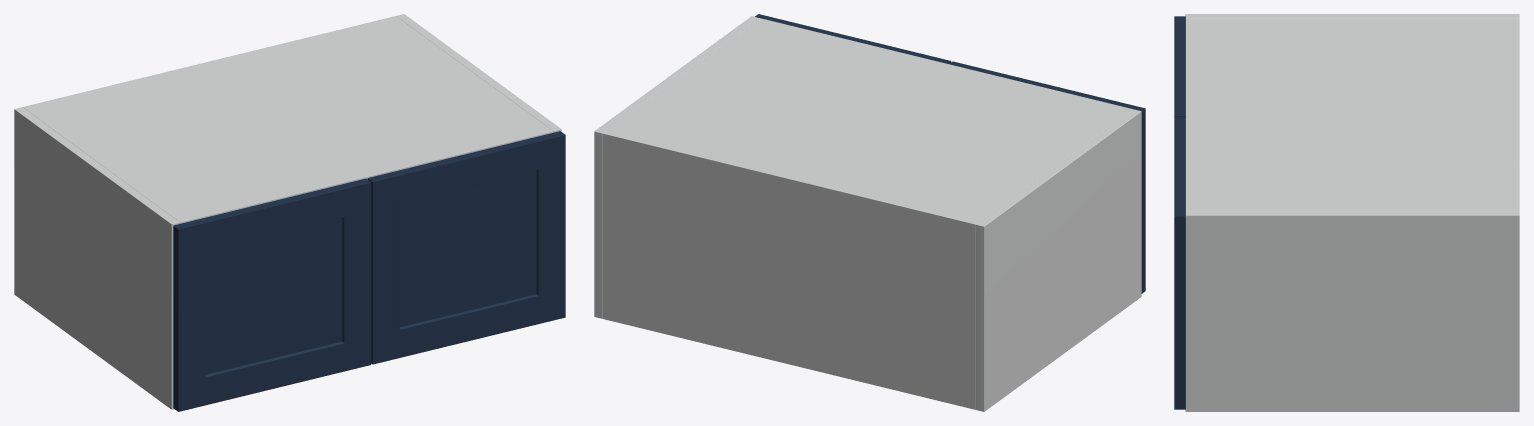
The model's file is oppein-ply-bss-w331524.glb.
The picture shows the model from 3 angles, left to right: view 1: azimuth 30°, elevation 25°; view 2: azimuth 150°, elevation 25°; view 3: azimuth 270°, elevation 25°; orthographic projection. The views are drawn at different scales.
Visible parts, largest first — view 1: Cabinet top, Door, Door.001, Cabinet side, Cabinet side.001, Cabinet back; view 2: Cabinet back, Cabinet top, Cabinet side, Cabinet side.001, Door, Cabinet bottom, Door.001; view 3: Cabinet side.001, Cabinet top, Door.001, Cabinet side, Cabinet back, Door.
Boxes of the visible parts, box(x1,y1,x2,y2) form: Cabinet top: box(23, 17, 553, 223); Door: box(173, 178, 371, 411); Door.001: box(367, 131, 565, 364); Cabinet side: box(14, 107, 179, 409); Cabinet side.001: box(396, 14, 561, 132); Cabinet back: box(23, 16, 398, 108); Cabinet back: box(602, 133, 978, 409); Cabinet top: box(602, 18, 1132, 232); Cabinet side: box(976, 109, 1141, 411); Cabinet side.001: box(594, 16, 759, 318); Door: box(949, 61, 1145, 293); Cabinet bottom: box(602, 318, 975, 409); Door.001: box(755, 14, 951, 63); Cabinet side.001: box(1185, 211, 1519, 411); Cabinet top: box(1185, 18, 1519, 211); Door.001: box(1174, 116, 1185, 409); Cabinet side: box(1185, 14, 1519, 18); Cabinet back: box(1513, 18, 1519, 211); Door: box(1174, 16, 1185, 116).
Size of the model in its own units: 0.8382 by 0.381 by 0.6064.
